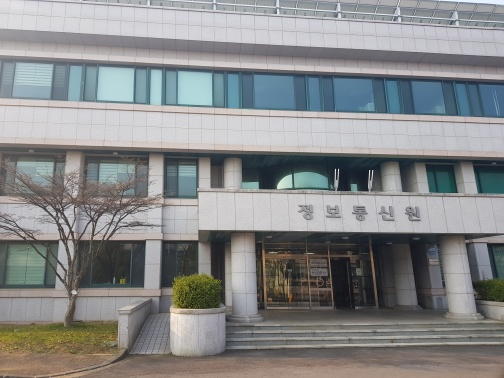Information Telecommunication Center: (2, 1, 501, 342), (186, 131, 498, 344), (258, 235, 438, 321), (296, 197, 434, 231)
